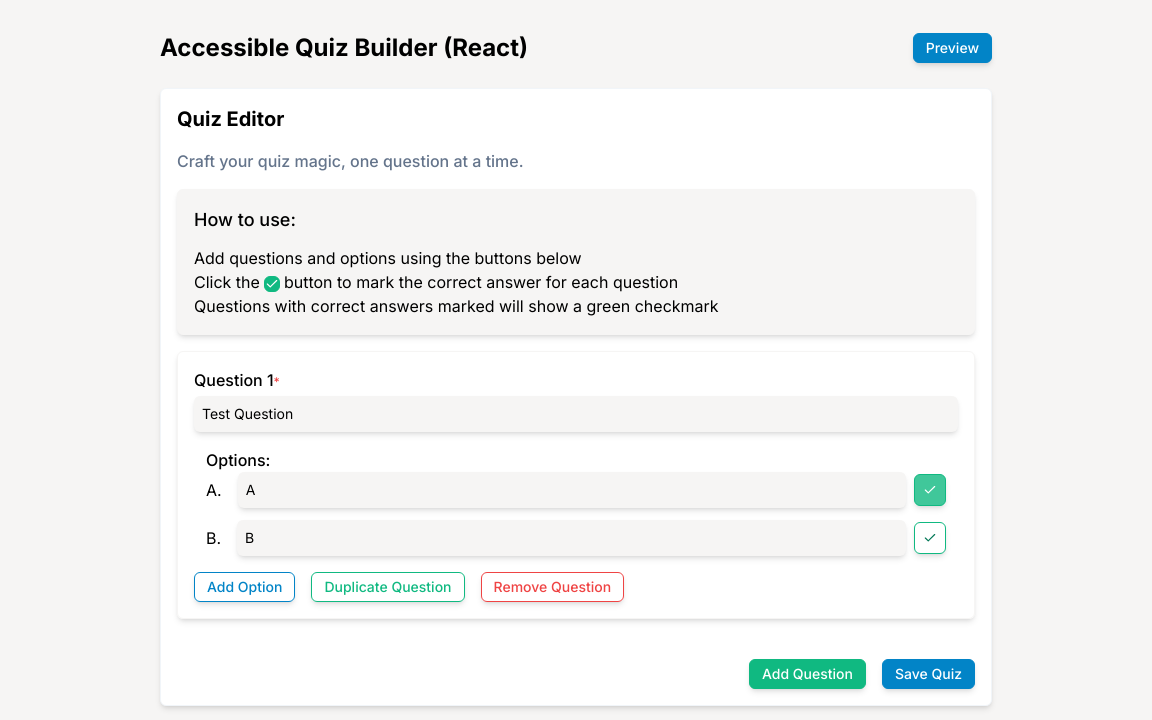
Test: App › toggles between edit and preview modes
The width and height of the screenshot is (1152, 720).
Click the button "Preview" at (952, 48), box [913,33,992,63]
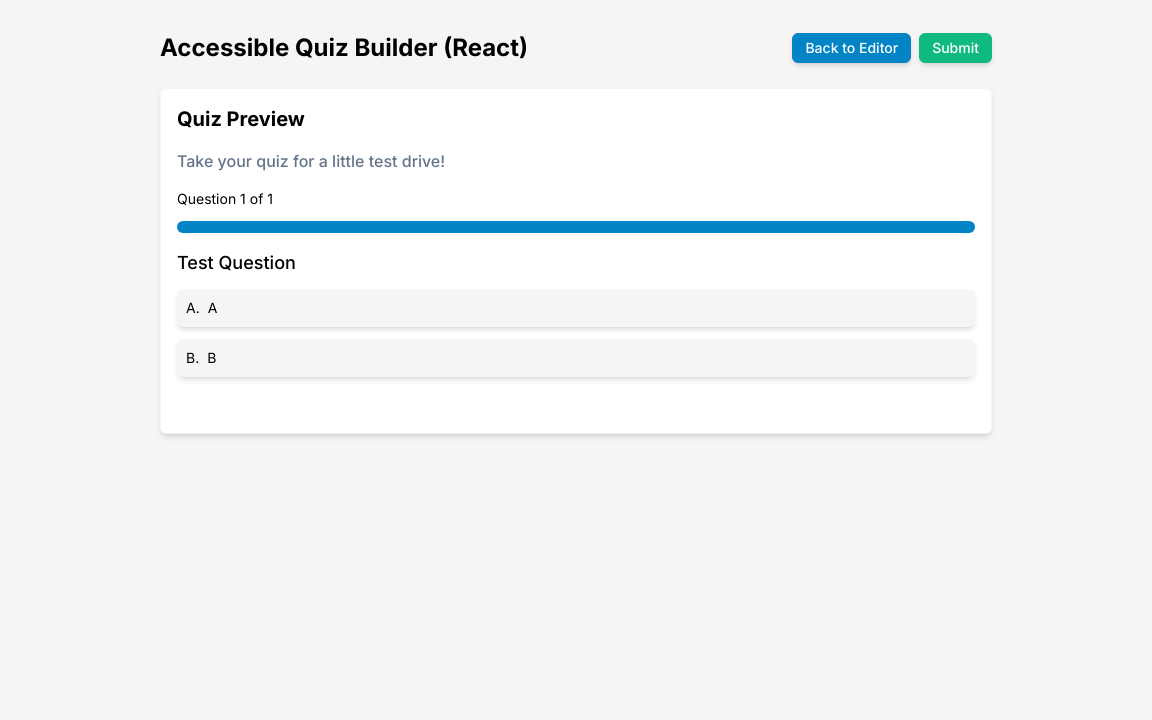
Expected: the heading "Quiz Preview" is shown, [177,107,305,131]
Expected: the button "Back to Editor" is shown, [792,33,911,63]
